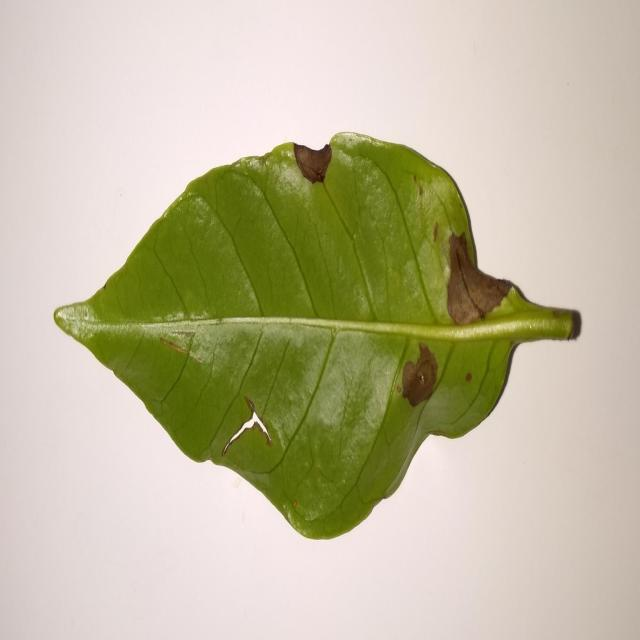Enfermedad-Antracnosis: (51, 132, 582, 544)
